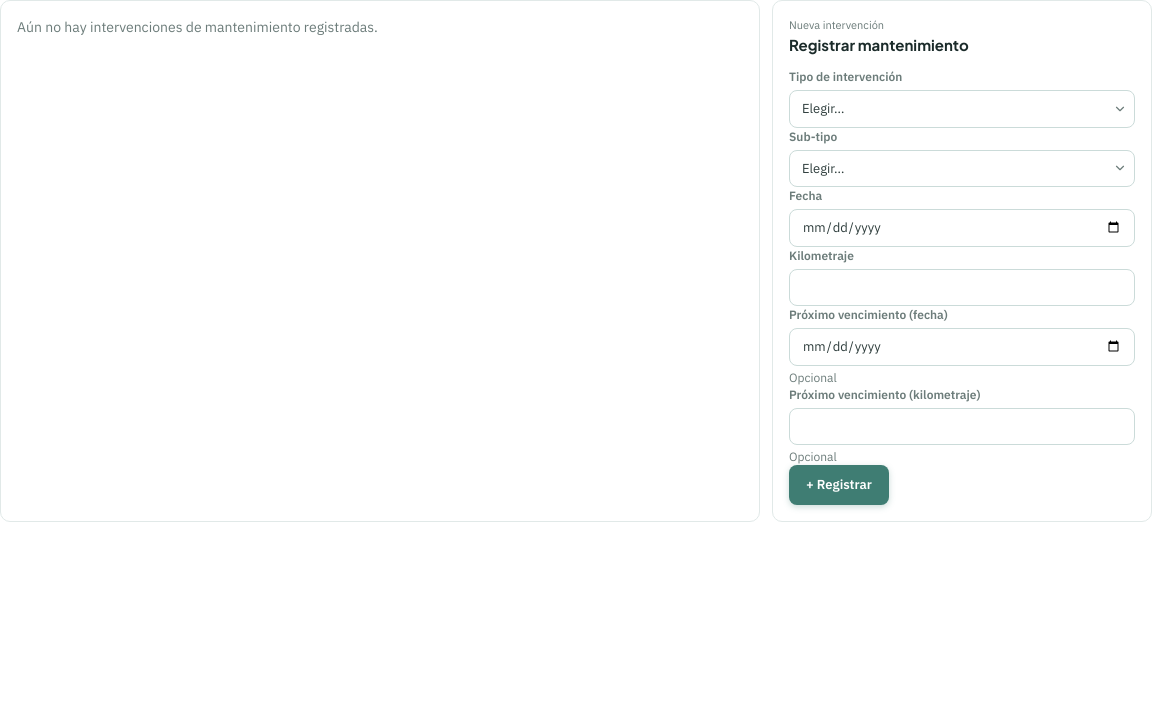
Test: HistorialMantenimiento › el campo detalle aparece y es obligatorio solo cuando el sub-tipo es "otro"
Expected: the field labelled "detalle" is not shown
Select "Correctivo" in the dropdown labelled "Tipo de intervención" at (962, 109), box [789,90,1135,128]
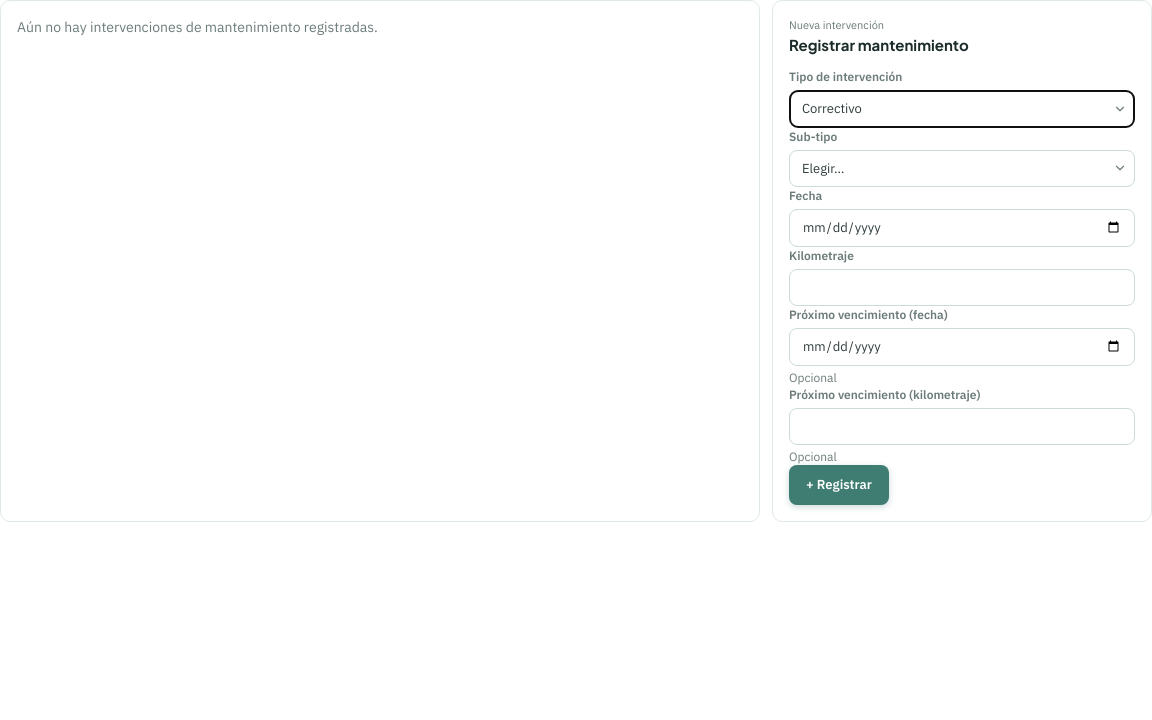
Select "Otro" in the dropdown labelled "Sub-tipo" at (962, 168), box [789,150,1135,187]
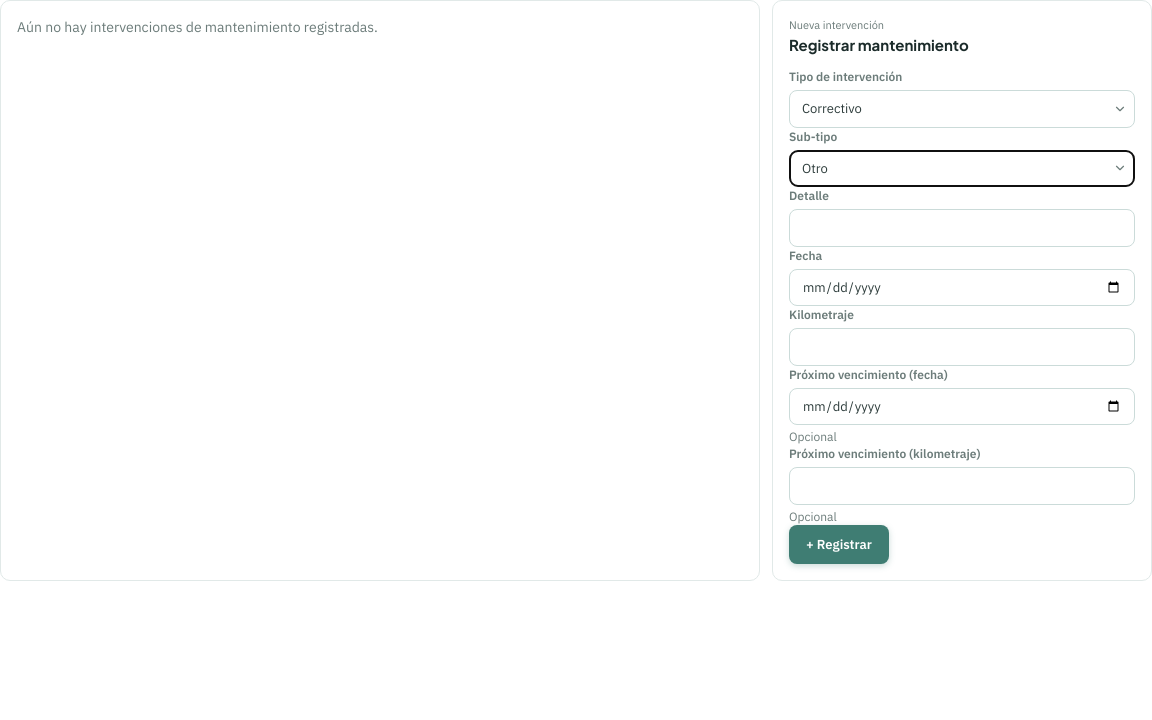
Result: the field labelled "Detalle" is shown at [789,209,1135,246]
Type "2026-07-01" into the date field labelled "Fecha".
click(962, 287); type("2026-07-01")  # box [789,268,1135,306]
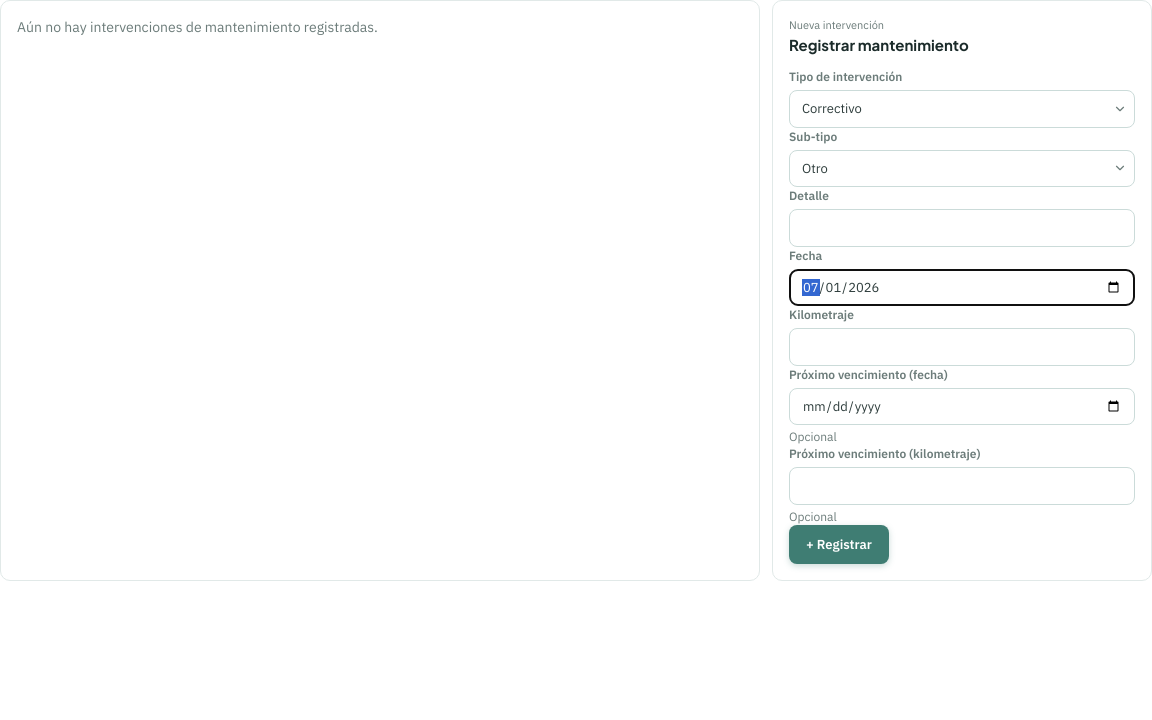
Type "50000" into the number field labelled "Kilometraje".
click(962, 347); type("50000")  # box [789,328,1135,366]
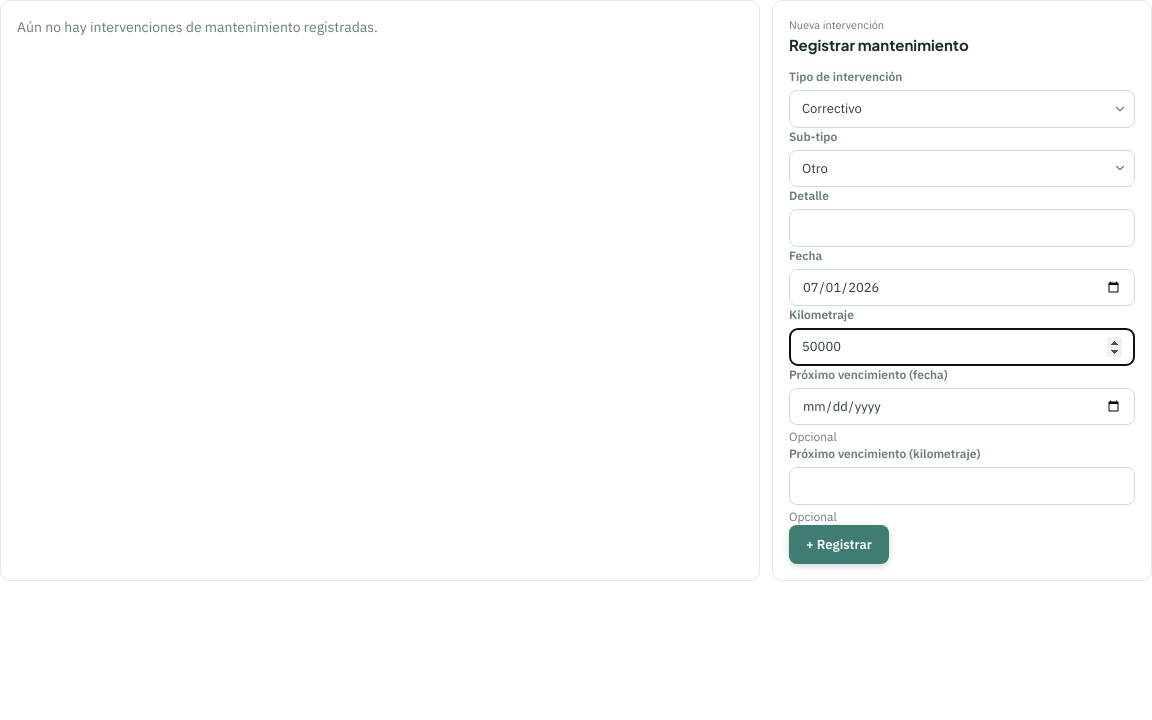
Click the button "+ Registrar".
click(839, 544)  # box [789,524,889,564]
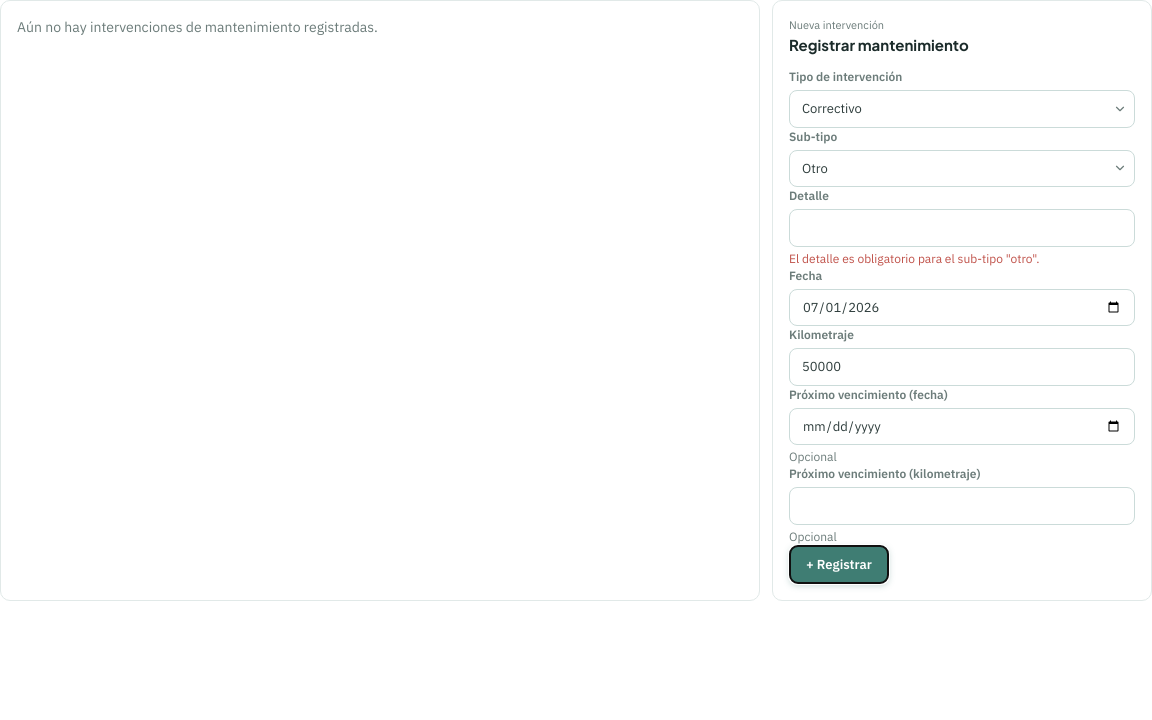
Result: the text "El detalle es obligatorio para el sub-tipo \"otro\"." is shown at [789,250,1040,266]
